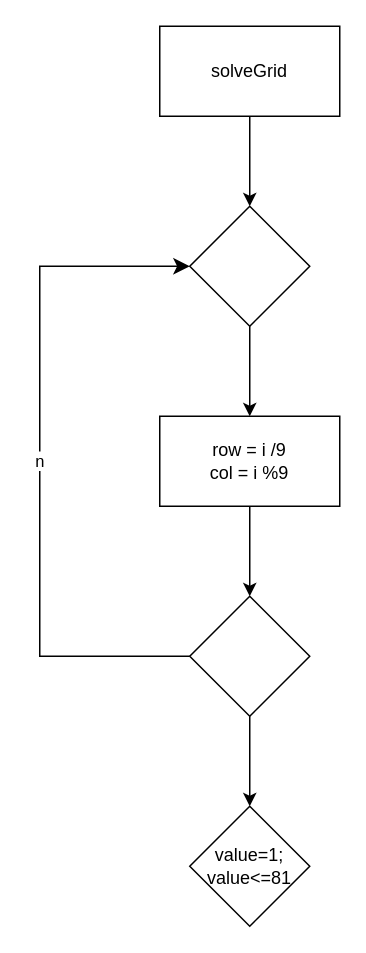
The diagram is 366 pixels wide and 953 high, and some of its shapes have lost their labels. Here are the shapes that lost their labels. From the top down, the box of each, then its label:
(188, 205, 310, 326): i=0;i<81
(188, 595, 310, 716): grid[row][col]==0
